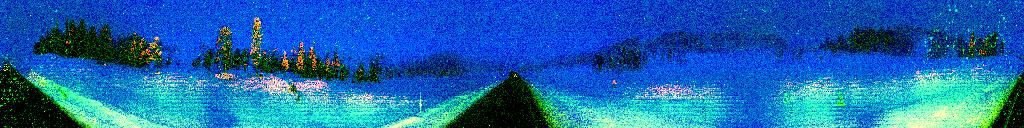pole: (418, 88, 423, 114)
